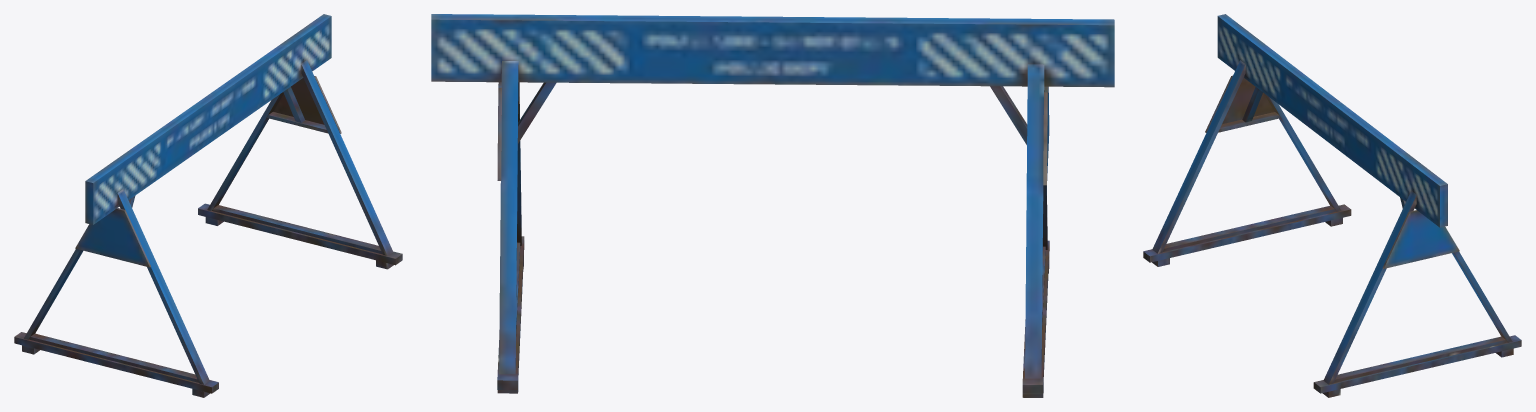
File: police-barrier.lod1.glb
3 renders of one model, left to right at view 1: azimuth 30°, elevation 25°; view 2: azimuth 150°, elevation 25°; view 3: azimuth 270°, elevation 25°, orthographic. The views are drawn at different scales.
Visible parts, largest first — view 1: Cube_Material.001_0; view 2: Cube_Material.001_0; view 3: Cube_Material.001_0.
Part boxes in pixels (bbox=[...]): Cube_Material.001_0: bbox=[14, 14, 402, 397]; Cube_Material.001_0: bbox=[431, 14, 1114, 397]; Cube_Material.001_0: bbox=[1143, 14, 1521, 397].
Bounding box in the file's own units: 1.98 × 1.05 × 1.73.
1 material, 1 textured.
